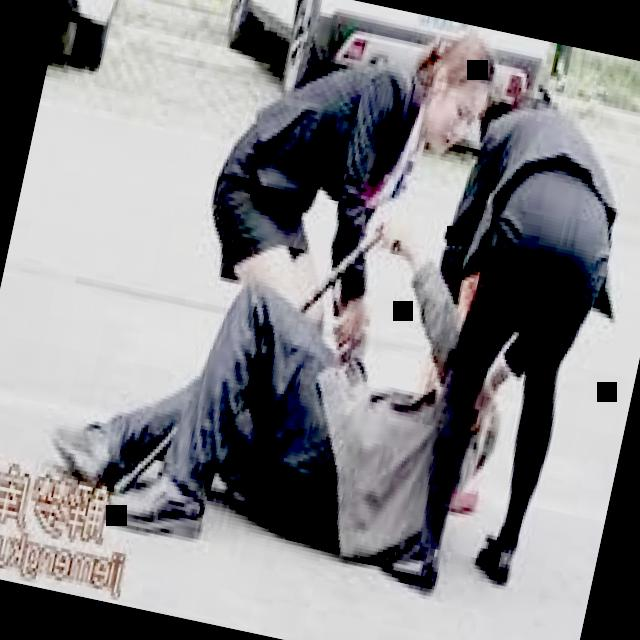Fall-Detected: (32, 142, 535, 606)
